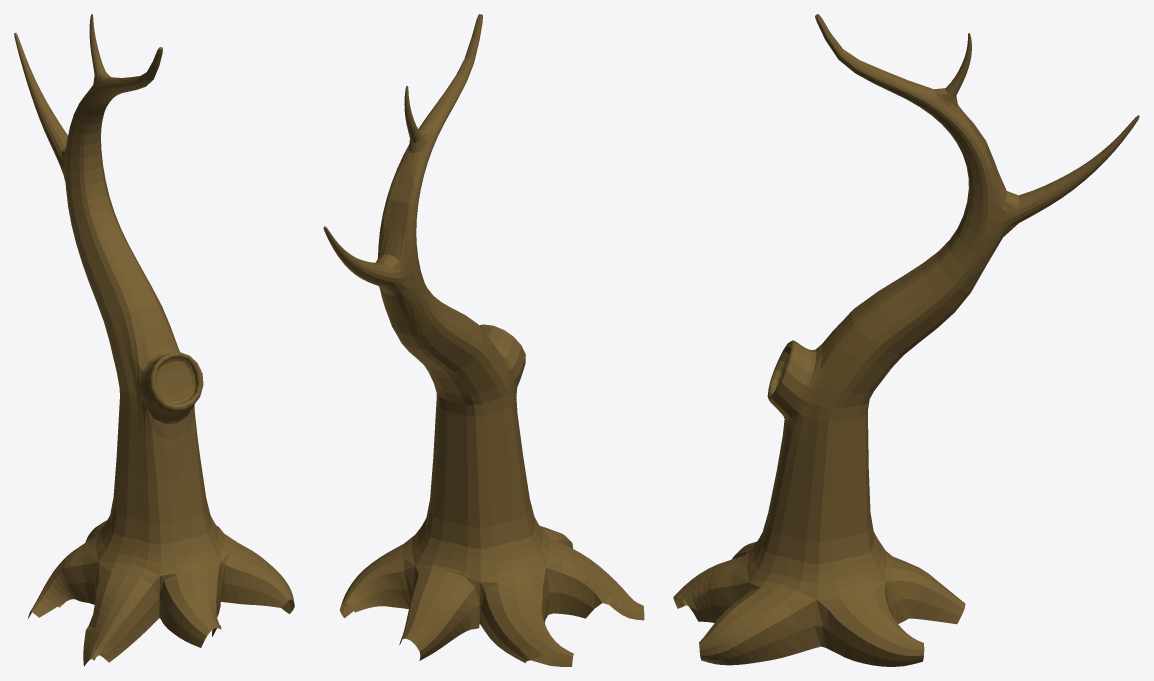
Rendered from Treetrunk.fbx.
The picture shows the model from 3 angles, left to right: view 1: azimuth 30°, elevation 25°; view 2: azimuth 150°, elevation 25°; view 3: azimuth 270°, elevation 25°; orthographic projection. The views are drawn at different scales.
Visible parts, largest first — view 1: pCylinder3; view 2: pCylinder3; view 3: pCylinder3.
Boxes of the visible parts, bbox=[...] form: pCylinder3: bbox=[14, 14, 294, 666]; pCylinder3: bbox=[323, 14, 644, 666]; pCylinder3: bbox=[673, 14, 1139, 666].
Bounding box in the file's own units: 5.4 × 14.3 × 9.68.
